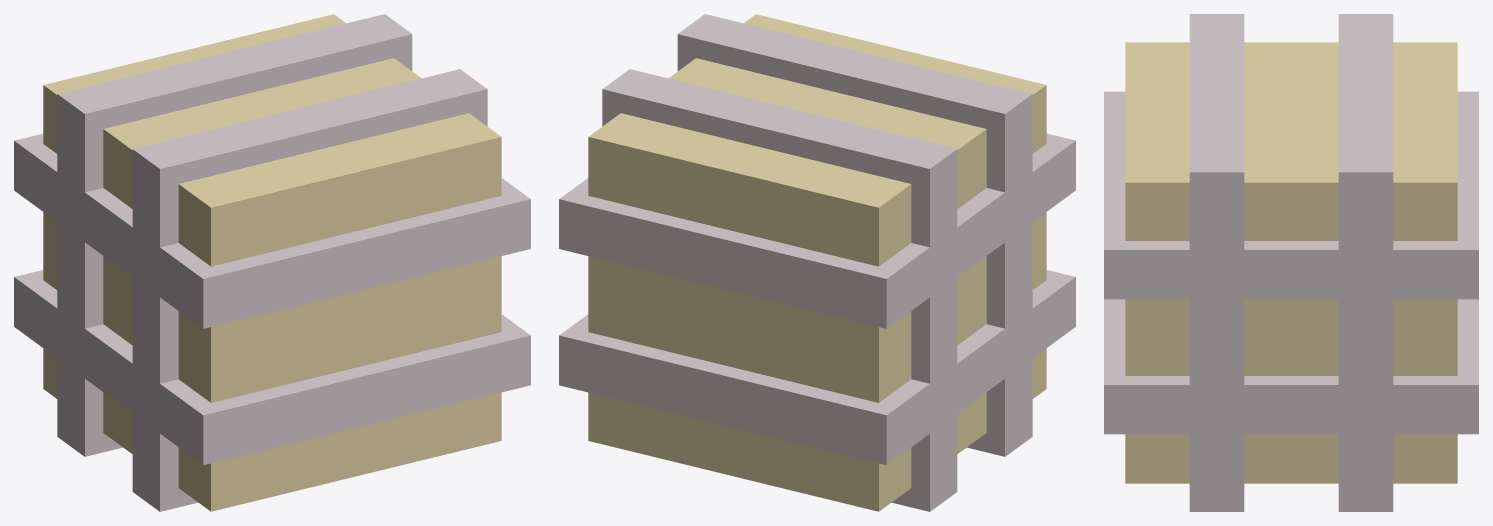
Rendered from lootbox.fbx.
3 views of the same model, side by side, from view 1: azimuth 30°, elevation 25°; view 2: azimuth 150°, elevation 25°; view 3: azimuth 270°, elevation 25° (orthographic).
Visible parts, largest first — view 1: Cube, Cube.002, Cube.001; view 2: Cube, Cube.002, Cube.001; view 3: Cube, Cube.001, Cube.002.
Boxes of the visible parts, x1,y1,x2,y2 form: Cube: (43,14,501,511); Cube.002: (14,133,530,465); Cube.001: (57,14,487,511); Cube: (588,14,1046,511); Cube.002: (559,133,1075,465); Cube.001: (602,14,1032,511); Cube: (1125,42,1457,483); Cube.001: (1189,14,1393,511); Cube.002: (1104,91,1478,434).
Size of the model in its own units: 226 by 226 by 226.
